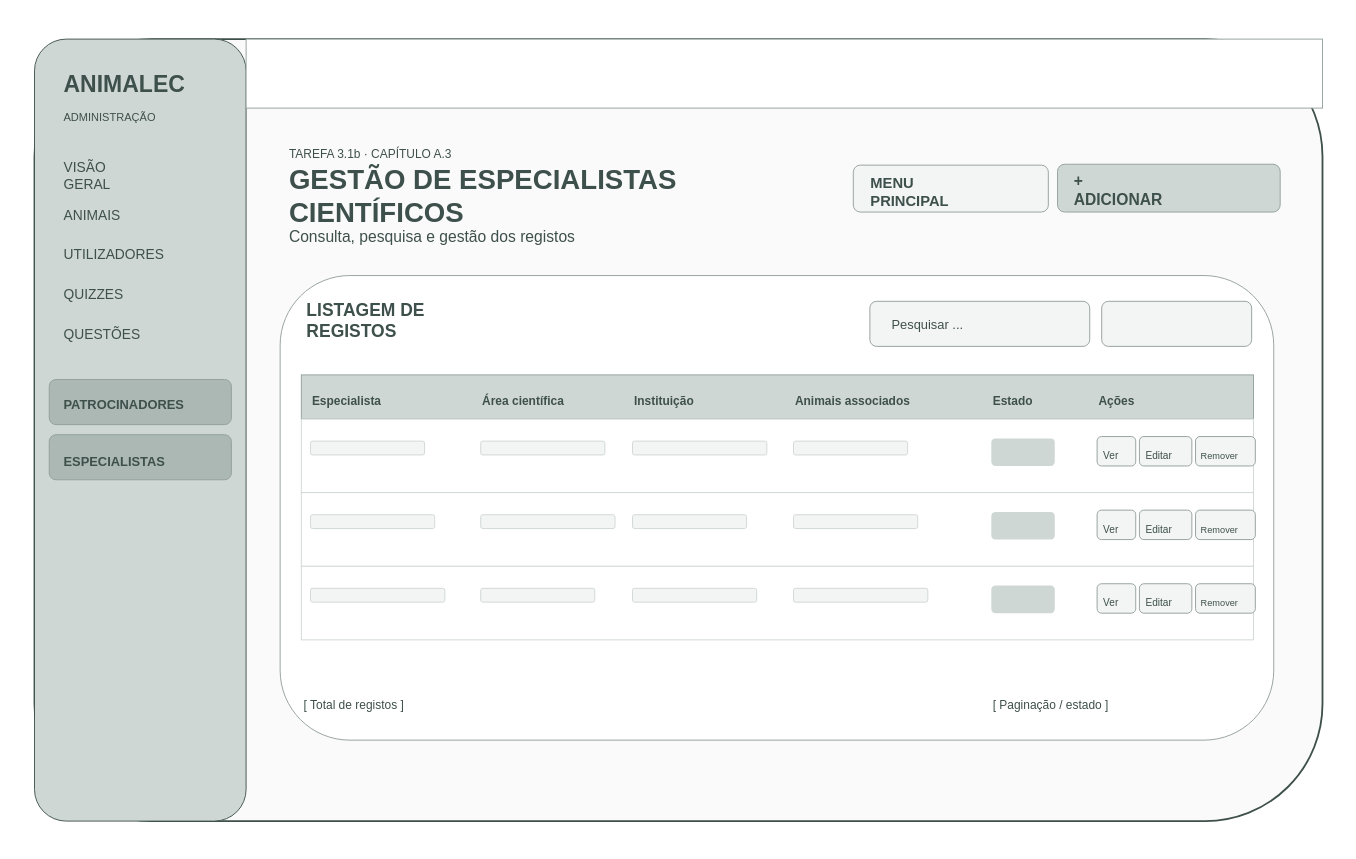
This 1356x859 diagram has some shape labels left out. Each missing label, with the box of its shape:
ANIMALEC / ESPECIALISTAS CIENTÍFICOS: (245, 38, 1322, 108)
Todos os estados: (1101, 300, 1252, 346)
